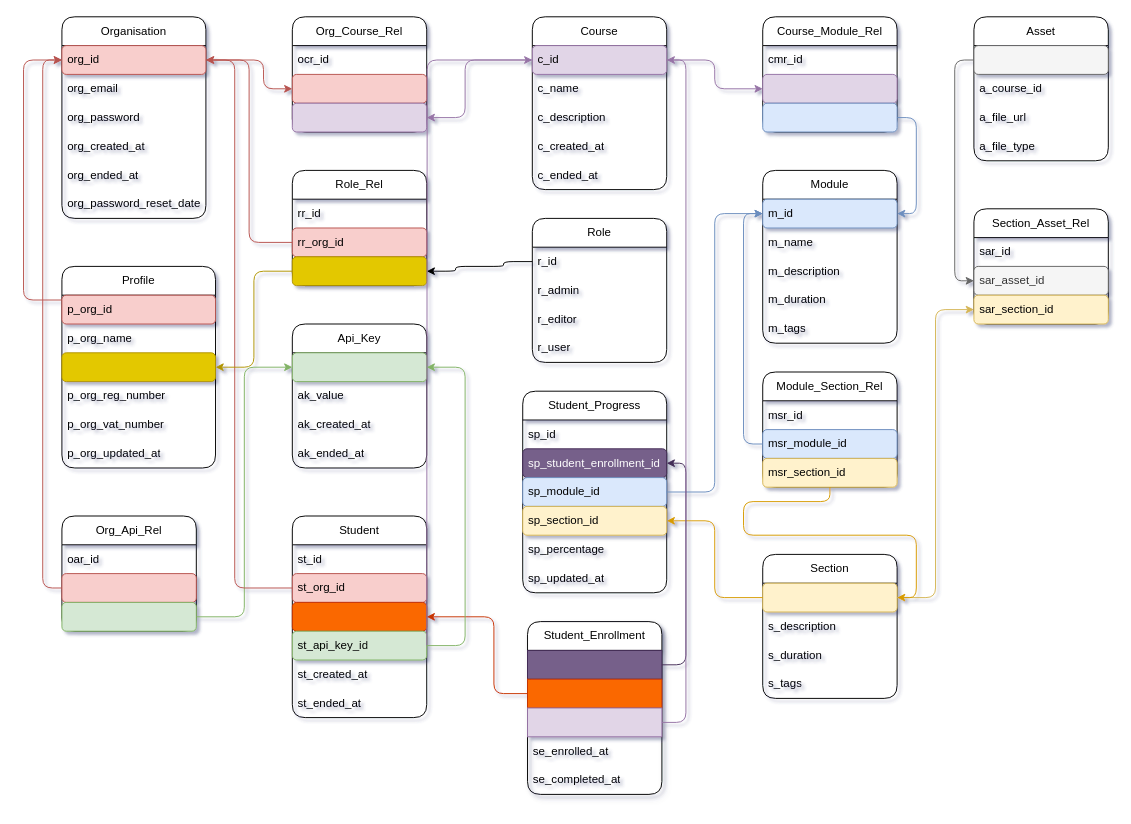
Image size: 1131x824. Some labels were removed from this diagram. The centre of each missing label's shape, as x and y in pixels:
a_id: the point at 1040,59
ak_id: the point at 359,367
cmr_course_id: the point at 829,88
cmr_module_id: the point at 829,117
oar_key_id: the point at 128,616
oar_org_id: the point at 128,587
ocr_course_id: the point at 359,117
ocr_org_id: the point at 359,88
p_org_role_id: the point at 138,367
rr_role_id: the point at 359,271
s_id: the point at 829,597
se_course_id: the point at 594,722
se_id: the point at 594,664
se_student_number: the point at 594,693
st_student_number: the point at 359,616
